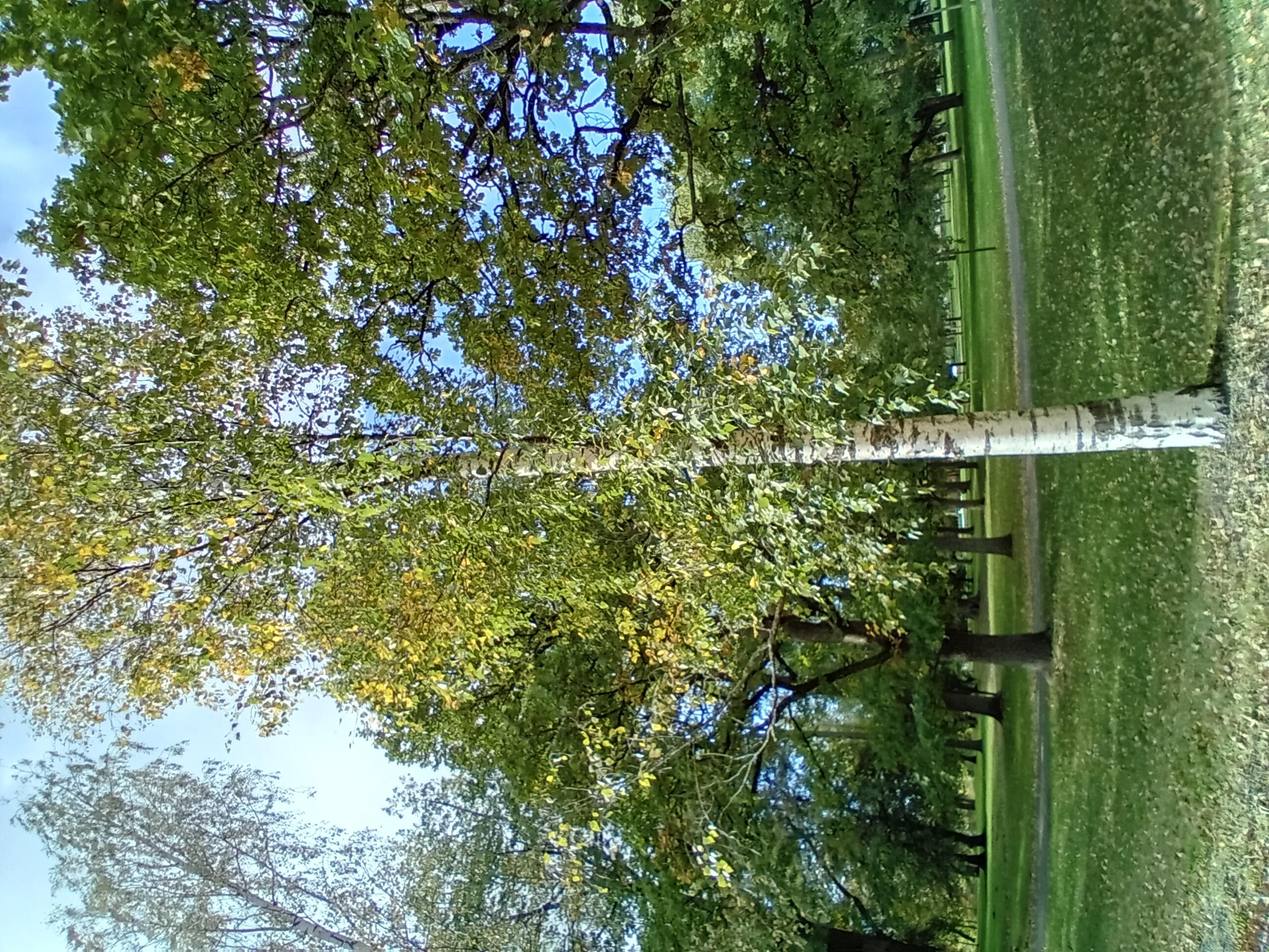Birch: (329, 0, 986, 952)
